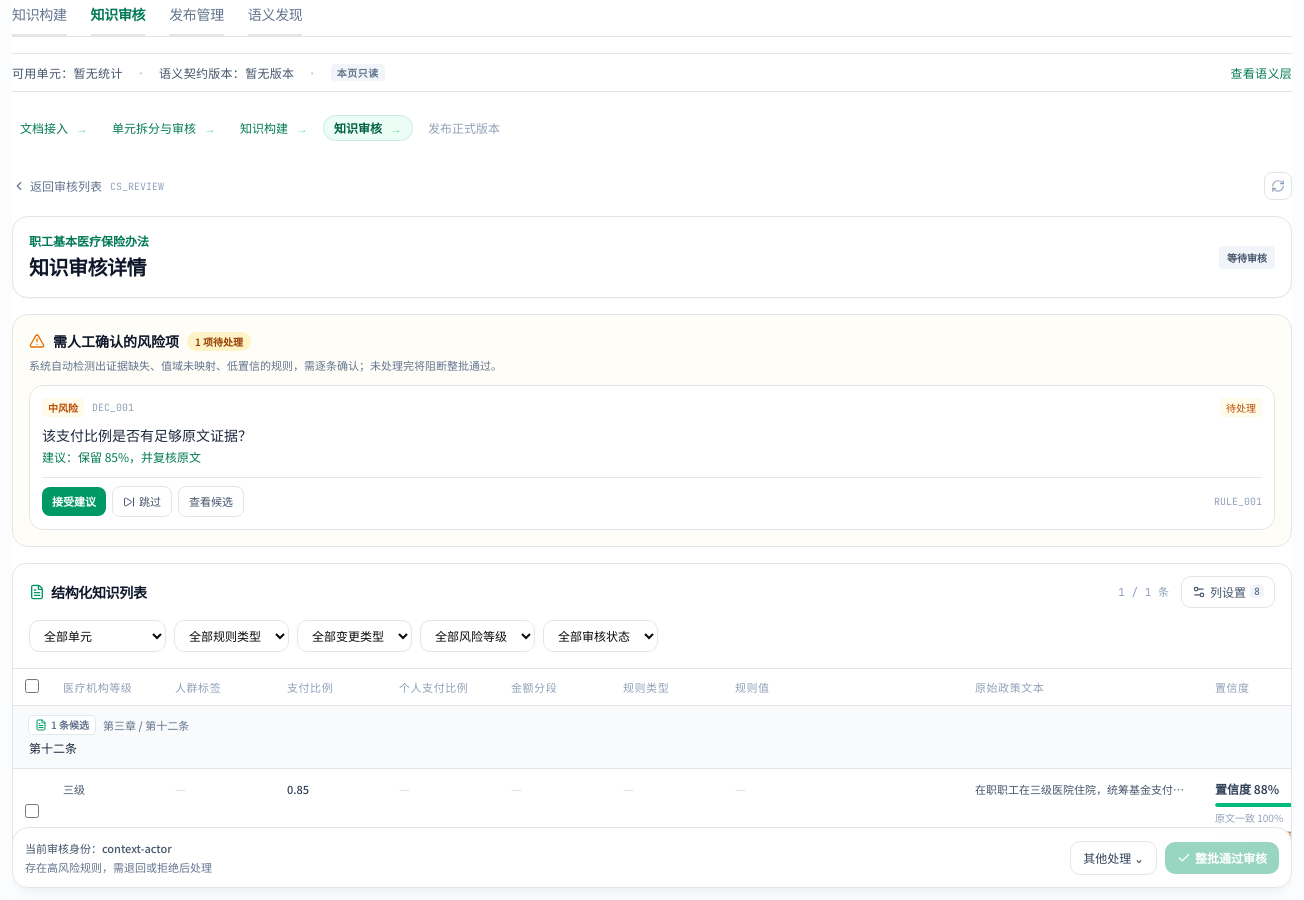
knowledge review detail › skips a pending issue with the current actor and reloads the same review context
The image size is (1304, 900).
Expected: the heading "结构化知识列表" is shown, [29,582,147,602]
Click the button "跳过".
click(142, 502)  # box [112,486,172,517]
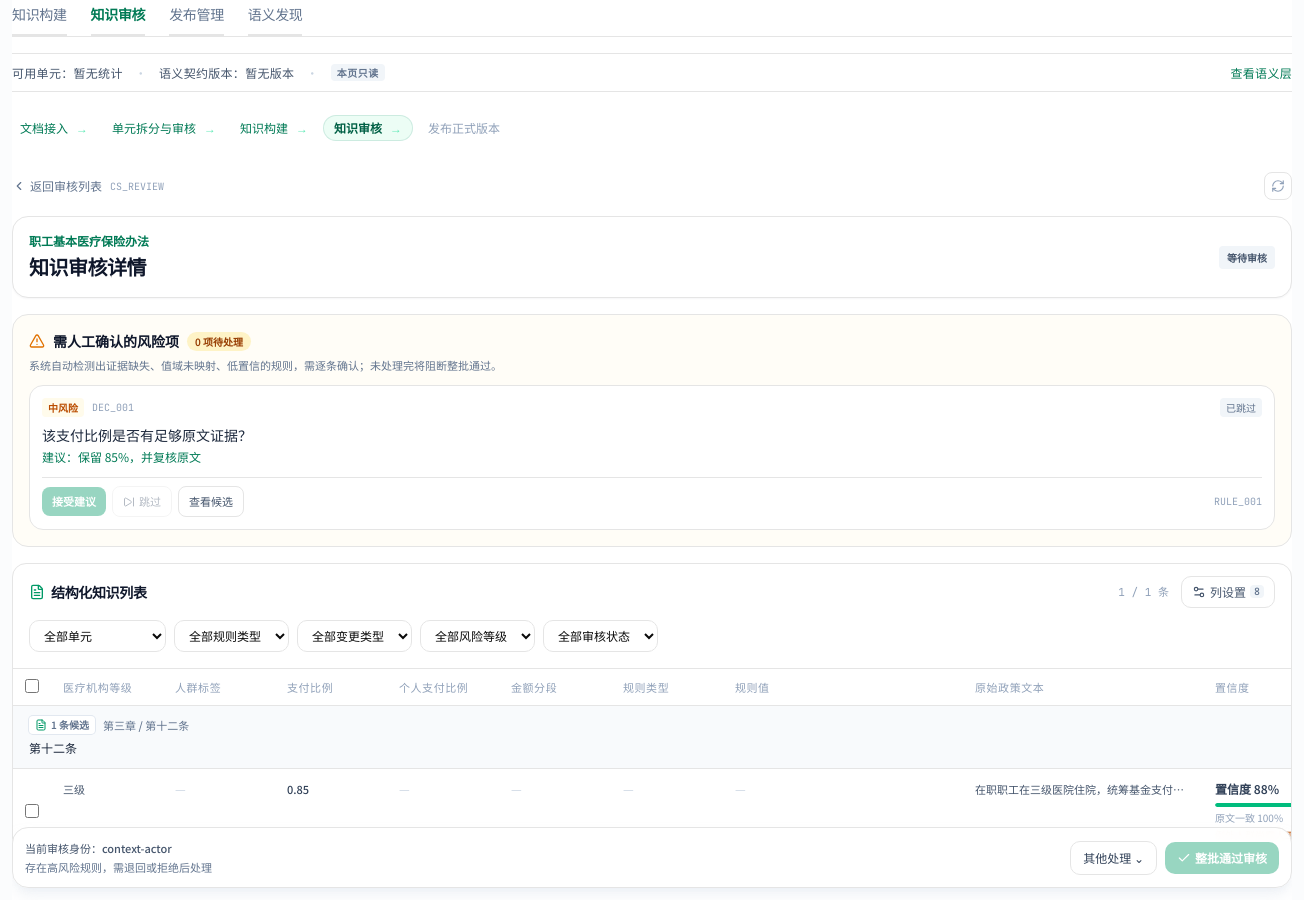
Result: the text "已跳过" is shown at [1220,398,1262,417]
